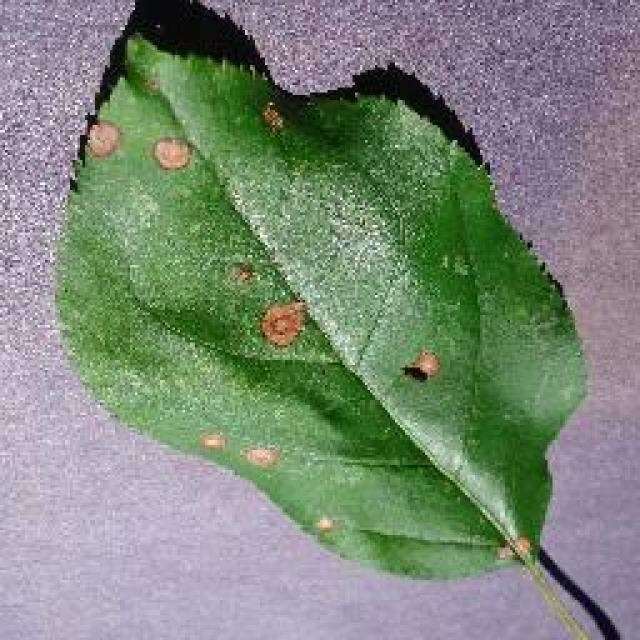apple healthy: (50, 0, 625, 638)
